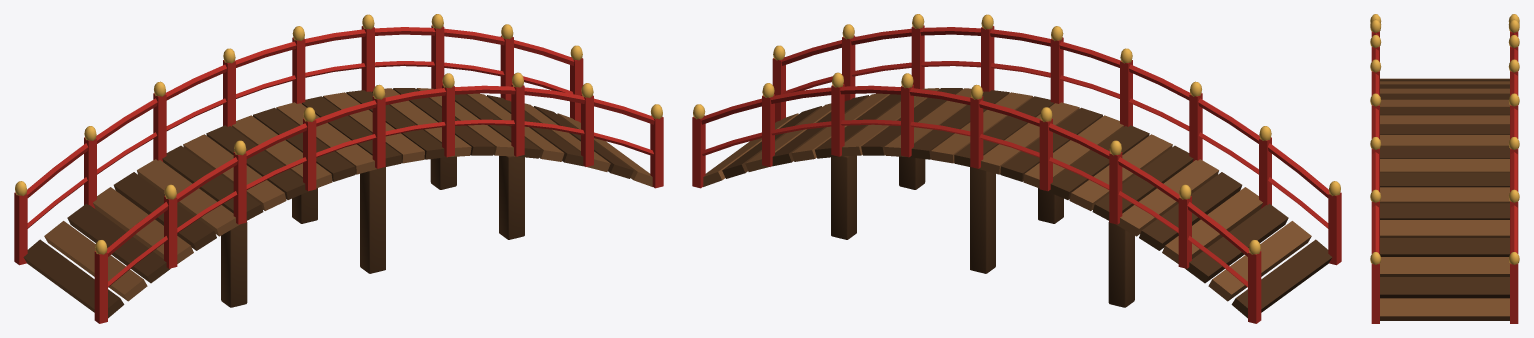
The model's file is bridge.glb.
3 views of the same model, side by side, from view 1: azimuth 30°, elevation 25°; view 2: azimuth 150°, elevation 25°; view 3: azimuth 270°, elevation 25° (orthographic). The views are drawn at different scales.
Visible parts, largest first — view 1: bridge; view 2: bridge; view 3: bridge.
Boxes of the visible parts, left/top/right/bottom form: bridge: left=14, top=14, right=663, bottom=323; bridge: left=692, top=14, right=1341, bottom=323; bridge: left=1370, top=14, right=1519, bottom=323.
Bounding box in the file's own units: 8.16 × 2.59 × 2.16.
